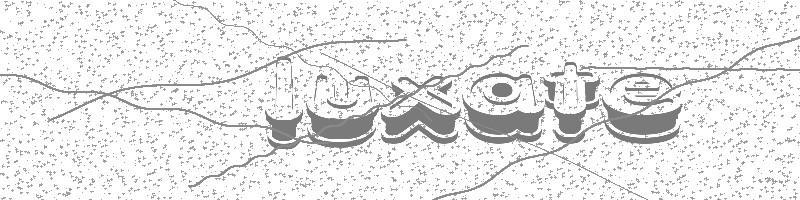a: (464, 68, 546, 141)
e: (603, 70, 685, 146)
l: (264, 53, 305, 146)
t: (545, 61, 601, 146)
u: (305, 67, 376, 148)
x: (380, 70, 463, 145)
